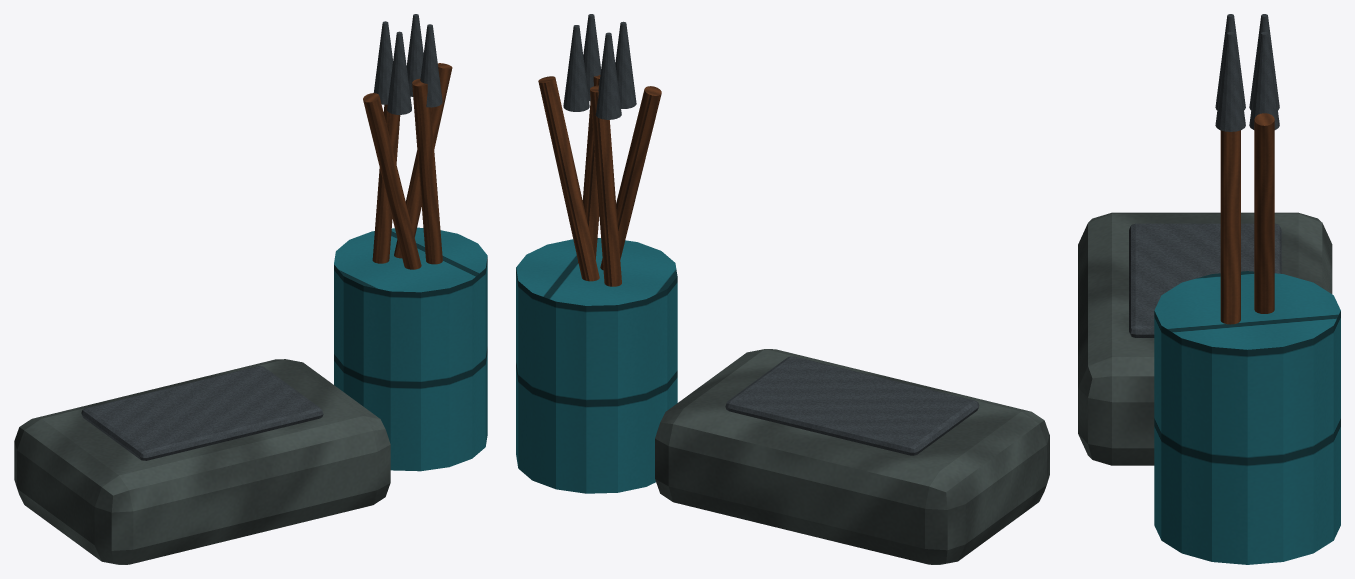
The model's file is ink_set.glb.
The picture shows the model from 3 angles, left to right: view 1: azimuth 30°, elevation 25°; view 2: azimuth 150°, elevation 25°; view 3: azimuth 270°, elevation 25°; orthographic projection. The views are drawn at different scales.
Visible parts, largest first — view 1: ink_set_Stone, ink_set_Ceramic, ink_set_Iron, ink_set_Walnut; view 2: ink_set_Stone, ink_set_Ceramic, ink_set_Iron, ink_set_Walnut; view 3: ink_set_Ceramic, ink_set_Stone, ink_set_Iron, ink_set_Walnut.
Boxes of the visible parts, x1,y1,x2,y2 form: ink_set_Stone: [14, 359, 390, 564]; ink_set_Ceramic: [334, 227, 487, 471]; ink_set_Iron: [81, 14, 442, 460]; ink_set_Walnut: [363, 63, 452, 269]; ink_set_Stone: [655, 349, 1049, 564]; ink_set_Ceramic: [516, 238, 677, 493]; ink_set_Iron: [563, 14, 979, 455]; ink_set_Walnut: [538, 75, 661, 286]; ink_set_Ceramic: [1154, 271, 1340, 564]; ink_set_Stone: [1078, 212, 1332, 465]; ink_set_Iron: [1129, 14, 1281, 337]; ink_set_Walnut: [1220, 113, 1274, 324].
Size of the model in its own units: 0.72 by 0.65 by 0.31.
4 materials, 4 textured.
